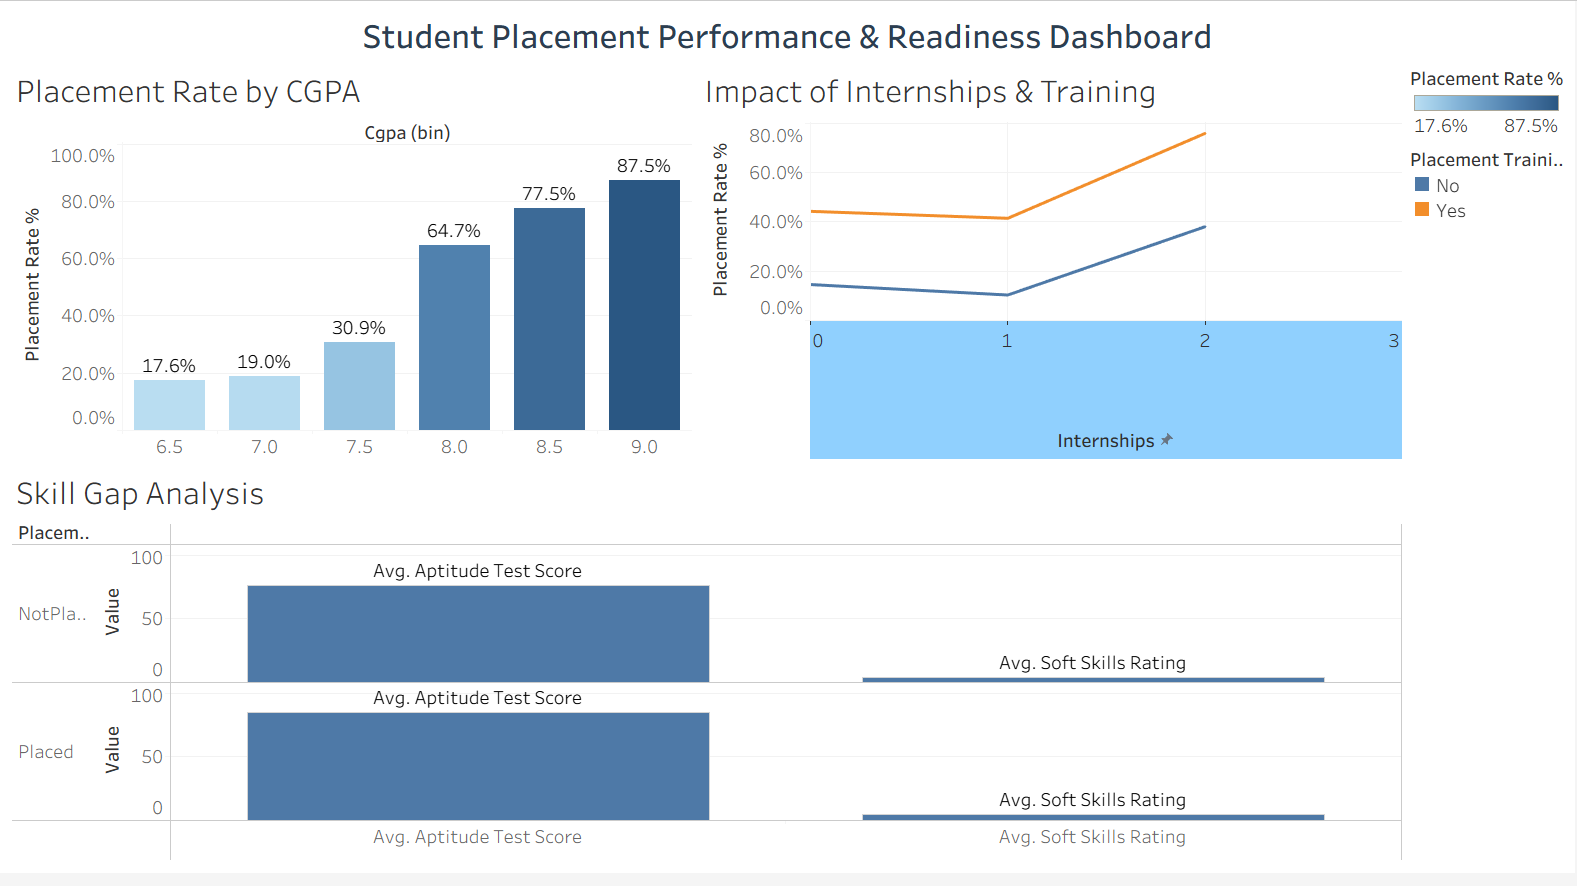

The dashboard page shown, as its layout file describes it:
{"tool":"tableau","page":{"name":"Dashboard 1","canvas":[1000,1000],"units":"permille","ordinal":0},"visuals":[{"type":"title","box":[5.1,9.2,989.8,59.6]},{"type":"worksheet","title":"Placement Rate by CGPA","mark":"Automatic","rows":["Calculation_1344738697314304"],"cols":["Cgpa (bin)"],"box":[5.1,68.8,436.8,461]},{"type":"worksheet","title":"Impact of Internships & Training","mark":"Automatic","rows":["Calculation_1344738697314304"],"cols":["Internships"],"box":[441.9,68.8,450.8,461]},{"type":"legend","title":"Placement Rate by CGPA","param":"[federated.1cynbye1o5c91t1brl6hy0damqmx].[usr:Calculation_1344738697314304:qk]","box":[892.7,68.8,102.2,92.9]},{"type":"legend","title":"Impact of Internships & Training","param":"[federated.1cynbye1o5c91t1brl6hy0damqmx].[none:PlacementTraining:nk]","box":[892.7,161.7,102.2,96.3]},{"type":"worksheet","title":"Skill Gap Analysis","mark":"Automatic","rows":["PlacementStatus"],"box":[5.1,529.8,887.6,461]}]}

Visuals, with their boxes on the dashboard's canvas, which has no fixed pixel size, in thousandths of its width and height (x1, y1, x2, y2). These are canvas units, not pixel positions in the 1577x886 screenshot, which may show the page scaled, cropped or inside an application window:
title: <box>5,9,995,69</box>
"Placement Rate by CGPA" worksheet: <box>5,69,442,530</box>
"Impact of Internships & Training" worksheet: <box>442,69,893,530</box>
"Placement Rate by CGPA" legend: <box>893,69,995,162</box>
"Impact of Internships & Training" legend: <box>893,162,995,258</box>
"Skill Gap Analysis" worksheet: <box>5,530,893,991</box>
